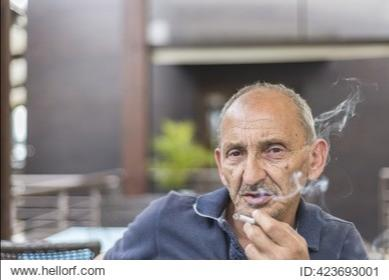Cigarette: (104, 83, 368, 260), (233, 212, 255, 224)
